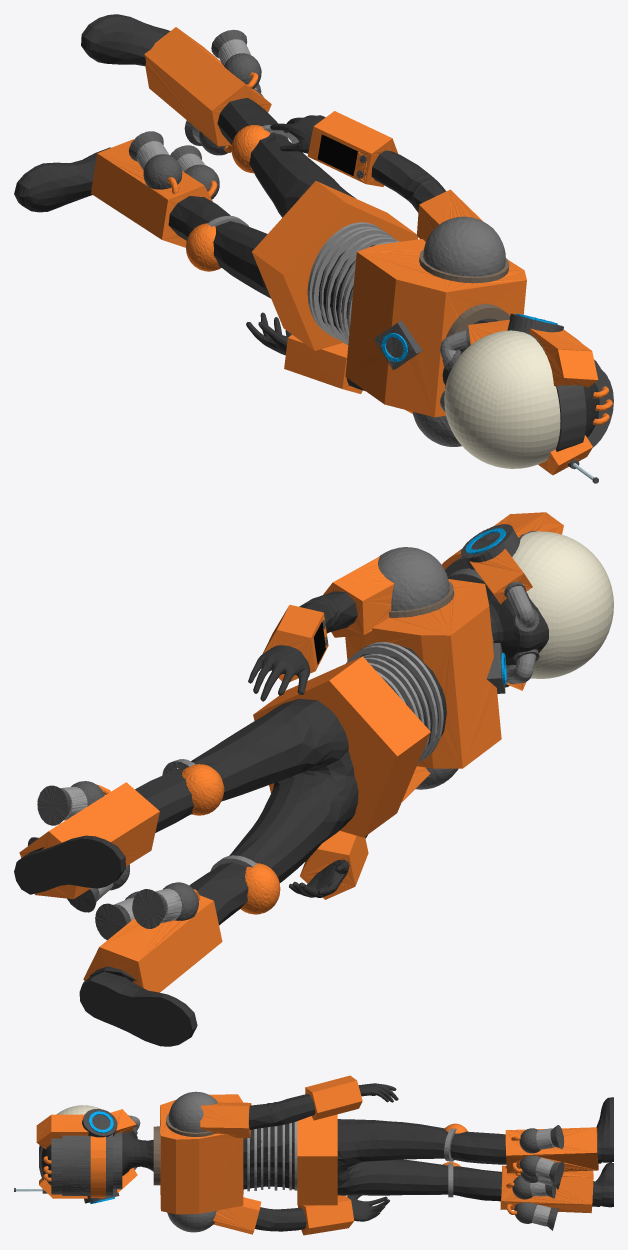
Rendered from spaceGuy3.obj.
3 renders of one model, top to bottom at view 1: azimuth 30°, elevation 25°; view 2: azimuth 150°, elevation 25°; view 3: azimuth 270°, elevation 25°, orthographic. The views are drawn at different scales.
Visible parts, largest first — view 1: Object.1; view 2: Object.1; view 3: Object.1.
Part boxes in pixels (box(x1,y1,x2,y2)): Object.1: box(14, 14, 613, 483); Object.1: box(14, 512, 613, 1046); Object.1: box(14, 1075, 613, 1235).
Size of the model in its own units: 20.97 by 24.77 by 84.27.
